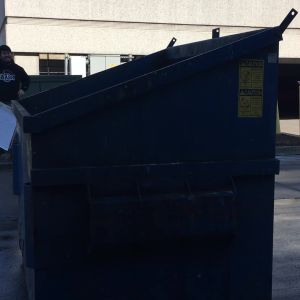Dumpster: (9, 5, 298, 300)
Person: (1, 39, 32, 106)
